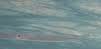sayori: (2, 30, 78, 43)
